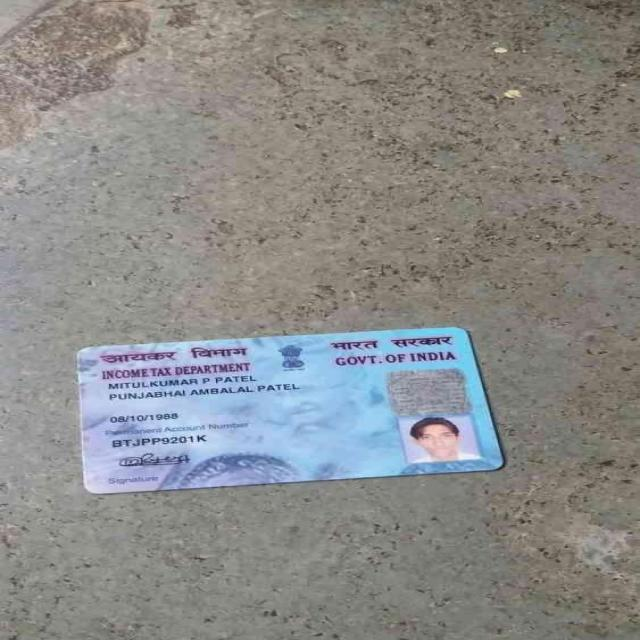pan_card: (81, 327, 505, 493)
